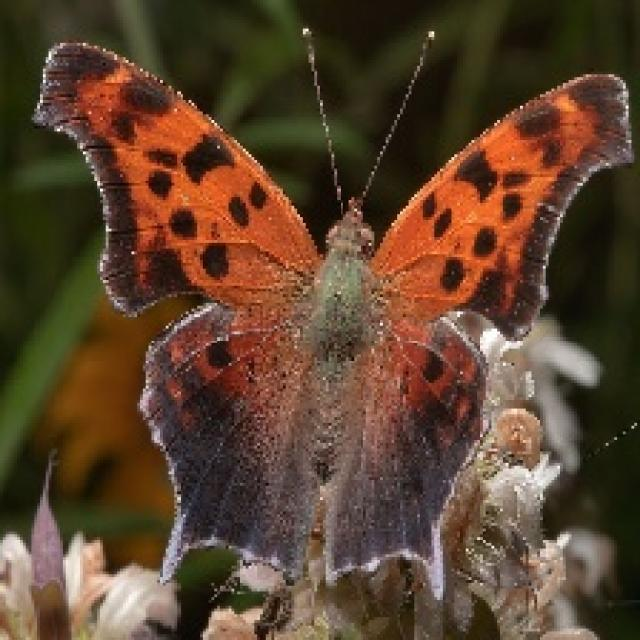butterfly: (29, 23, 637, 591)
